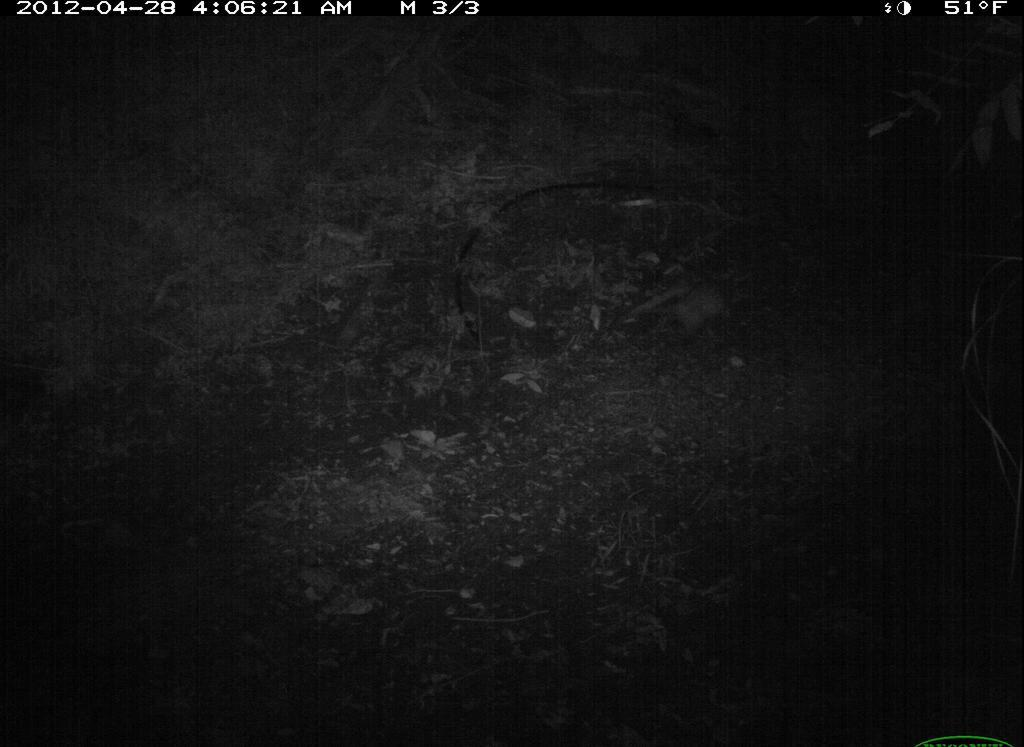opossum: (656, 269, 751, 351)
